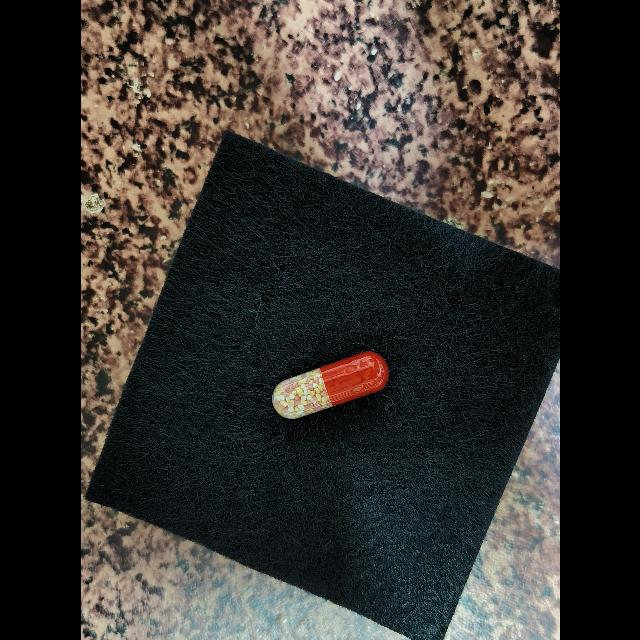Intact Capsule: (271, 352, 389, 419)
